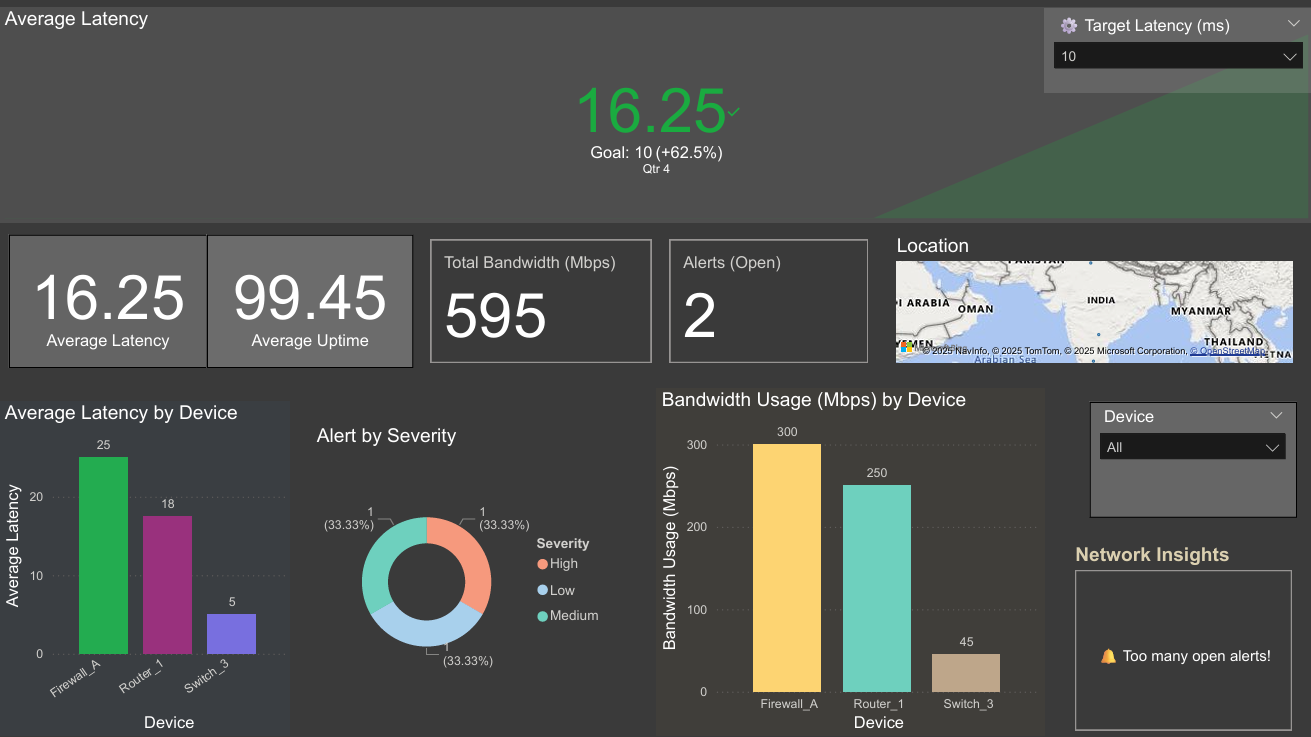

Layout of this report page (visuals, bound fields, positions):
{"tool":"powerbi","page":{"name":"Page 1","canvas":[1280,720],"ordinal":0},"visuals":[{"type":"card","fields":{"Values":["Network_Logs.Avg_Latency"]},"box":[8.9,230,193.3,130],"z":0},{"type":"card","fields":{"Values":["Network_Logs.Avg_Uptime"]},"box":[202.2,230,201.1,130],"z":1000},{"type":"cardVisual","fields":{"Data":["Network_Logs.Total_Bandwidth"]},"box":[415.3,229.7,225,129.9],"z":2000},{"type":"cardVisual","fields":{"Data":["Alerts.Open_Alerts"]},"box":[648.4,230,202.3,129.9],"z":3000},{"type":"slicer","fields":{"Values":["Devices.Device"]},"box":[1062.2,393.3,202.2,112.2],"z":4000},{"type":"clusteredColumnChart","fields":{"Category":["Network_Logs.Device"],"Y":["Network_Logs.Avg_Latency"]},"box":[0,393,283,326],"z":5000},{"type":"clusteredColumnChart","fields":{"Category":["Network_Logs.Device"],"Y":["Sum(Network_Logs.Bandwidth_Usage(Mbps))"]},"box":[640,380,378.9,338.9],"z":6000},{"type":"donutChart","fields":{"Category":["Alerts.Severity"],"Y":["CountNonNull(Alerts.AlertID)"]},"box":[303.9,415.3,294.6,285.3],"z":7000},{"type":"map","fields":{"Category":["Devices.Location"]},"box":[868.7,230,396,129.9],"z":8000},{"type":"kpi","title":"Average Latency","fields":{"Indicator":["Network_Logs.Avg_Latency"],"Goal":["Latency_Target_Table.Selected_Target_Latency"],"TrendLine":["Network_Logs.Date.Variation.Date Hierarchy.Quarter"]},"box":[0,9.4,1280,210],"z":9000},{"type":"slicer","fields":{"Values":["Latency_Target_Table.Target"]},"box":[1018,10,262,82],"z":10000},{"type":"cardVisual","title":"Network Insights","fields":{"Data":["Network_Logs.Network_Insight"]},"box":[1042.5,531.2,221.2,187.5],"z":11000}]}

Visuals, with their boxes in screenshot pixels (x1, y1, x2, y2), scaled from the page's 1280x720 canvas onto the 1311x737 screenshot:
card - Network_Logs.Avg_Latency: l=9, t=235, r=207, b=368
card - Network_Logs.Avg_Uptime: l=207, t=235, r=413, b=368
cardVisual - Network_Logs.Total_Bandwidth: l=425, t=235, r=656, b=368
cardVisual - Alerts.Open_Alerts: l=664, t=235, r=871, b=368
slicer - Devices.Device: l=1088, t=403, r=1295, b=517
clusteredColumnChart - Network_Logs.Device x Network_Logs.Avg_Latency: l=0, t=402, r=290, b=736
clusteredColumnChart - Network_Logs.Device x Sum(Network_Logs.Bandwidth_Usage(Mbps)): l=656, t=389, r=1044, b=736
donutChart - Alerts.Severity x CountNonNull(Alerts.AlertID): l=311, t=425, r=613, b=717
map - Devices.Location: l=890, t=235, r=1295, b=368
"Average Latency" kpi: l=0, t=10, r=1310, b=225
slicer - Latency_Target_Table.Target: l=1043, t=10, r=1310, b=94
"Network Insights" cardVisual: l=1068, t=544, r=1294, b=736
